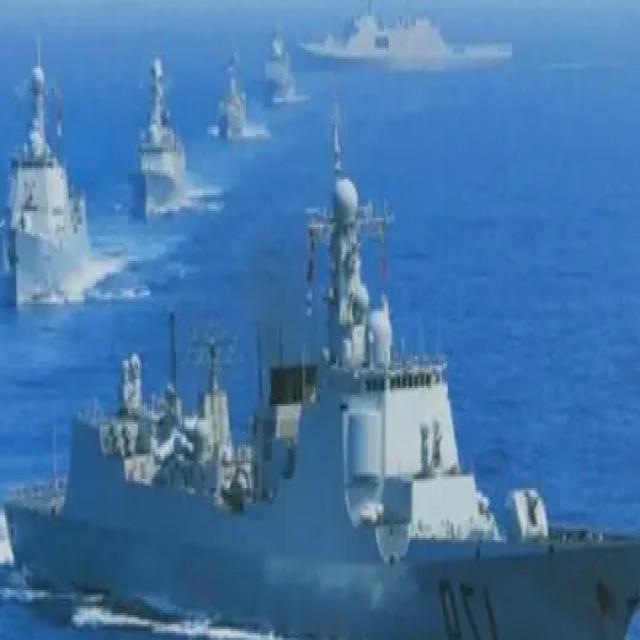navalvessels: (0, 163, 640, 640), (4, 38, 99, 314), (296, 0, 514, 77), (122, 50, 194, 204), (258, 25, 296, 115), (217, 42, 247, 155)
